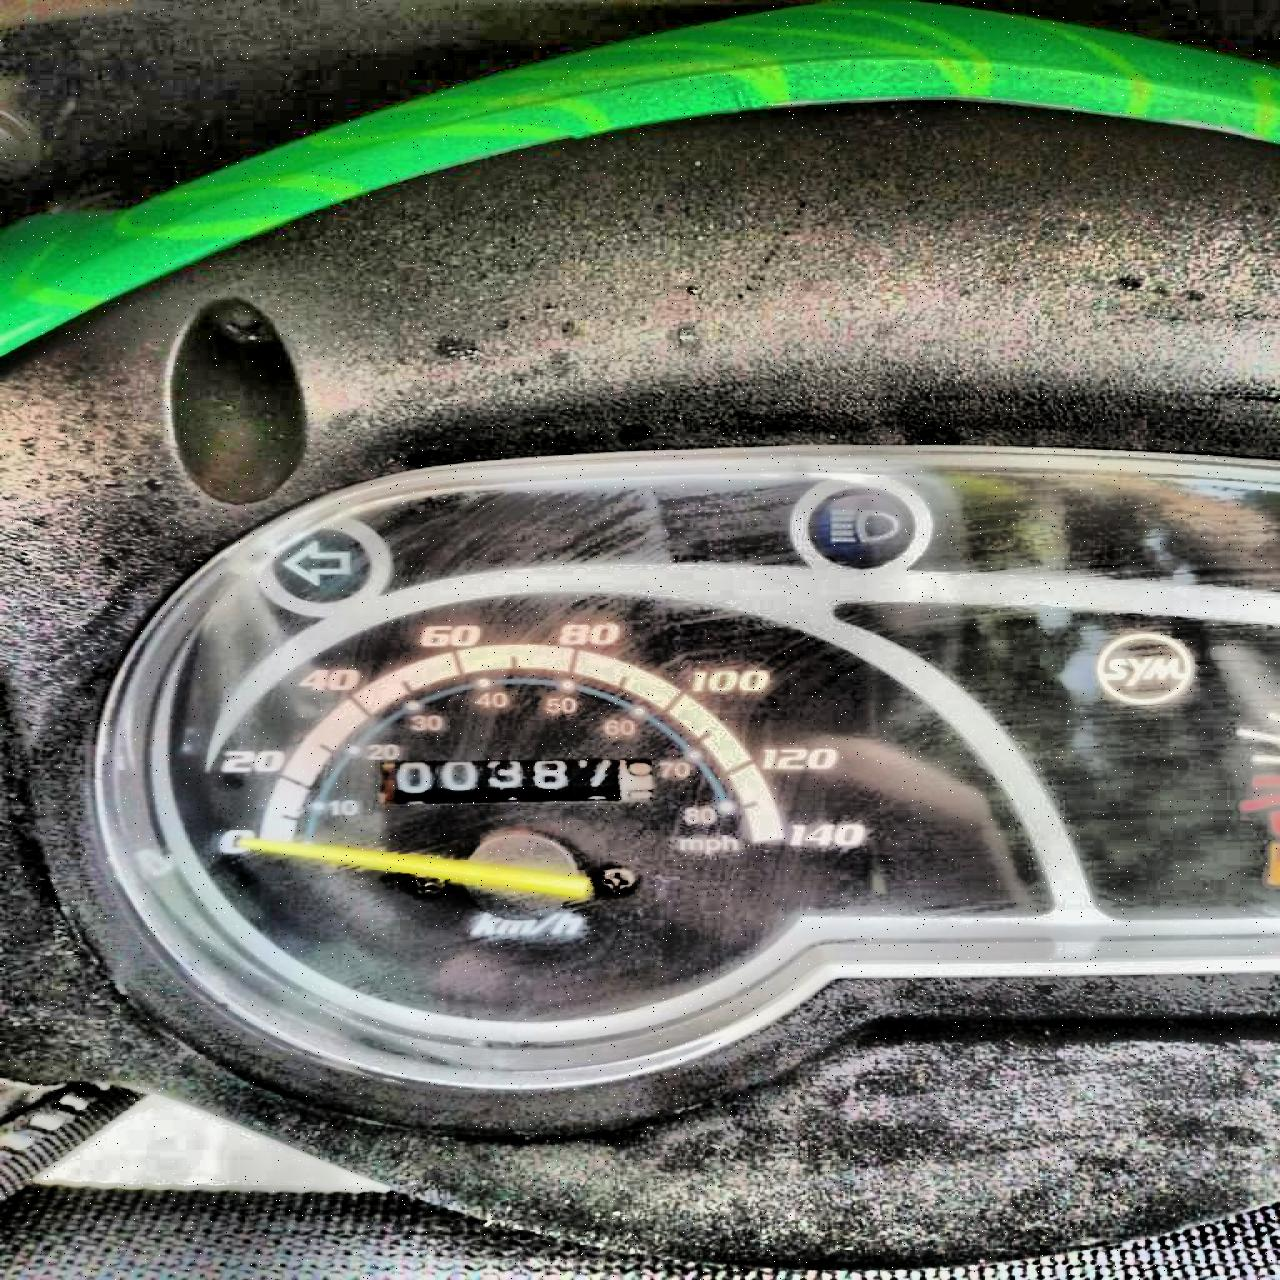0: (392, 758, 431, 794), (437, 758, 475, 791)
3: (483, 757, 524, 789)
6: (621, 755, 651, 779)
7: (576, 756, 610, 788)
8: (529, 757, 568, 789)
odometer: (369, 754, 659, 809)
